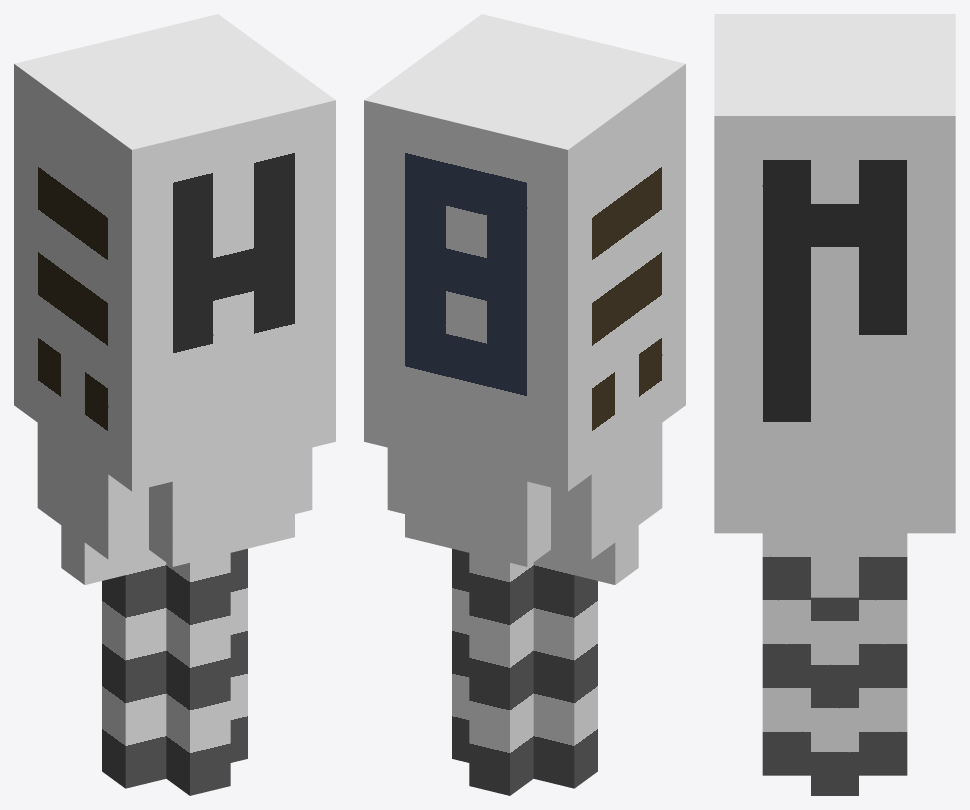
The model's file is noga_d_p.dae.
3 renders of one model, left to right at view 1: azimuth 30°, elevation 25°; view 2: azimuth 150°, elevation 25°; view 3: azimuth 270°, elevation 25°, orthographic. The views are drawn at different scales.
Parts seen in each view (by area): view 1: Content; view 2: Content; view 3: Content.
Part boxes in pixels (bbox=[...]): Content: bbox=[14, 14, 335, 795]; Content: bbox=[364, 14, 685, 795]; Content: bbox=[714, 14, 955, 795].
Bounding box in the file's own units: 5 × 16 × 5.
1 material, 1 textured.
